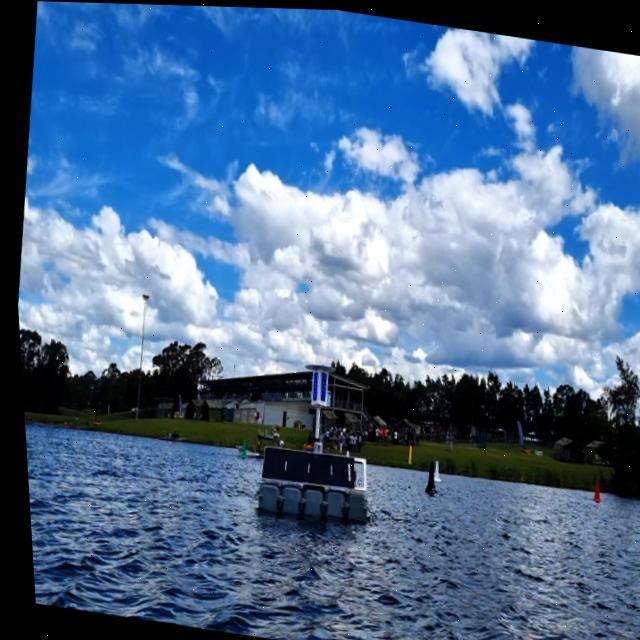led: (304, 368, 325, 403), (311, 367, 325, 403), (305, 368, 316, 400)
